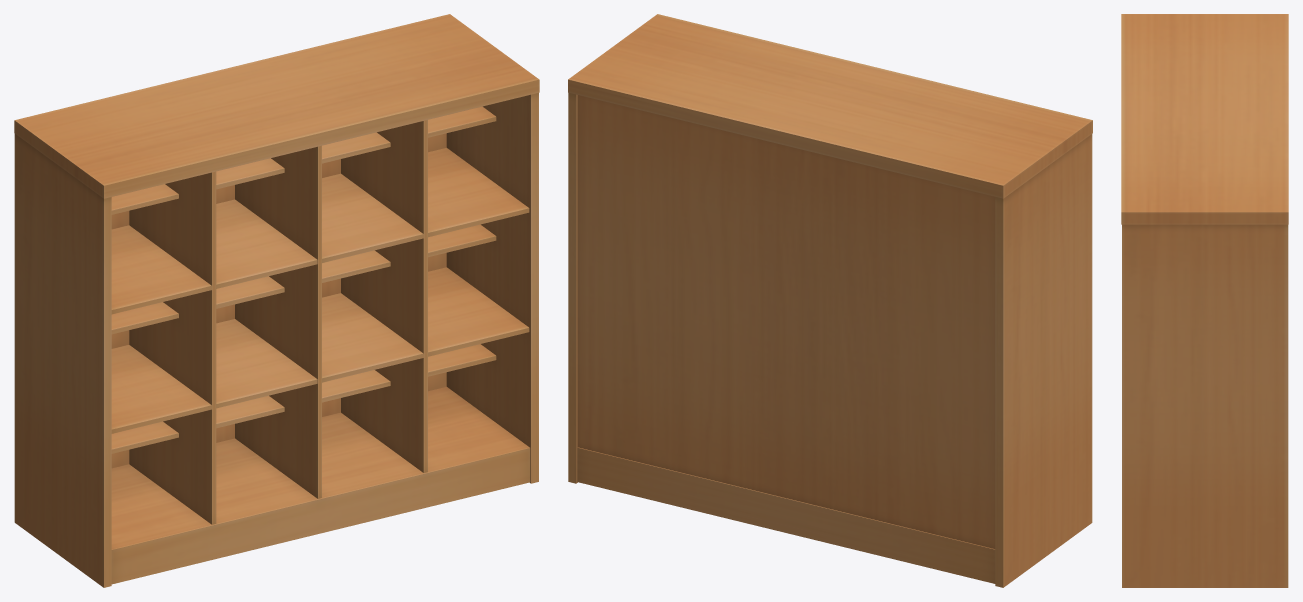
File: set_shoecupboard_b_08.fbx
3 views of the same model, side by side, from view 1: azimuth 30°, elevation 25°; view 2: azimuth 150°, elevation 25°; view 3: azimuth 270°, elevation 25° (orthographic). The views are drawn at different scales.
Visible parts, largest first — view 1: set_shoecupboard_b_08; view 2: set_shoecupboard_b_08; view 3: set_shoecupboard_b_08.
Part boxes in pixels (x1,y1,x2,y2): set_shoecupboard_b_08: [14, 14, 539, 587]; set_shoecupboard_b_08: [568, 14, 1092, 587]; set_shoecupboard_b_08: [1121, 14, 1288, 587].
Size of the model in its own units: 105 by 92.62 by 37.38.
